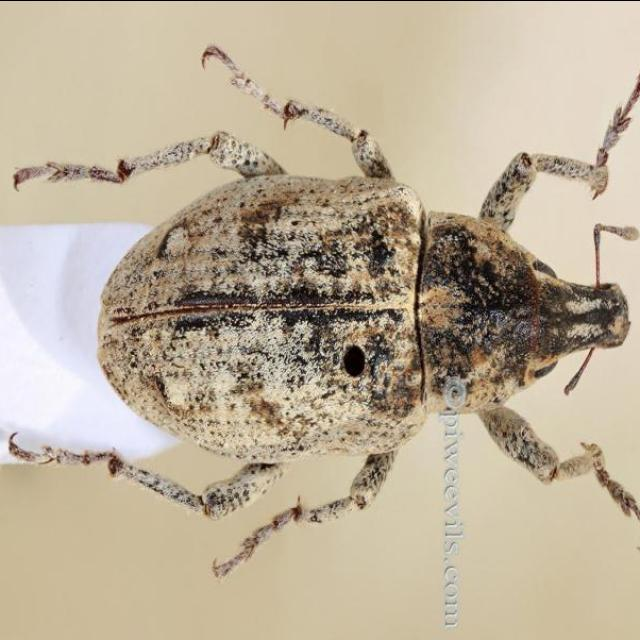ricebug: (38, 45, 640, 575)
